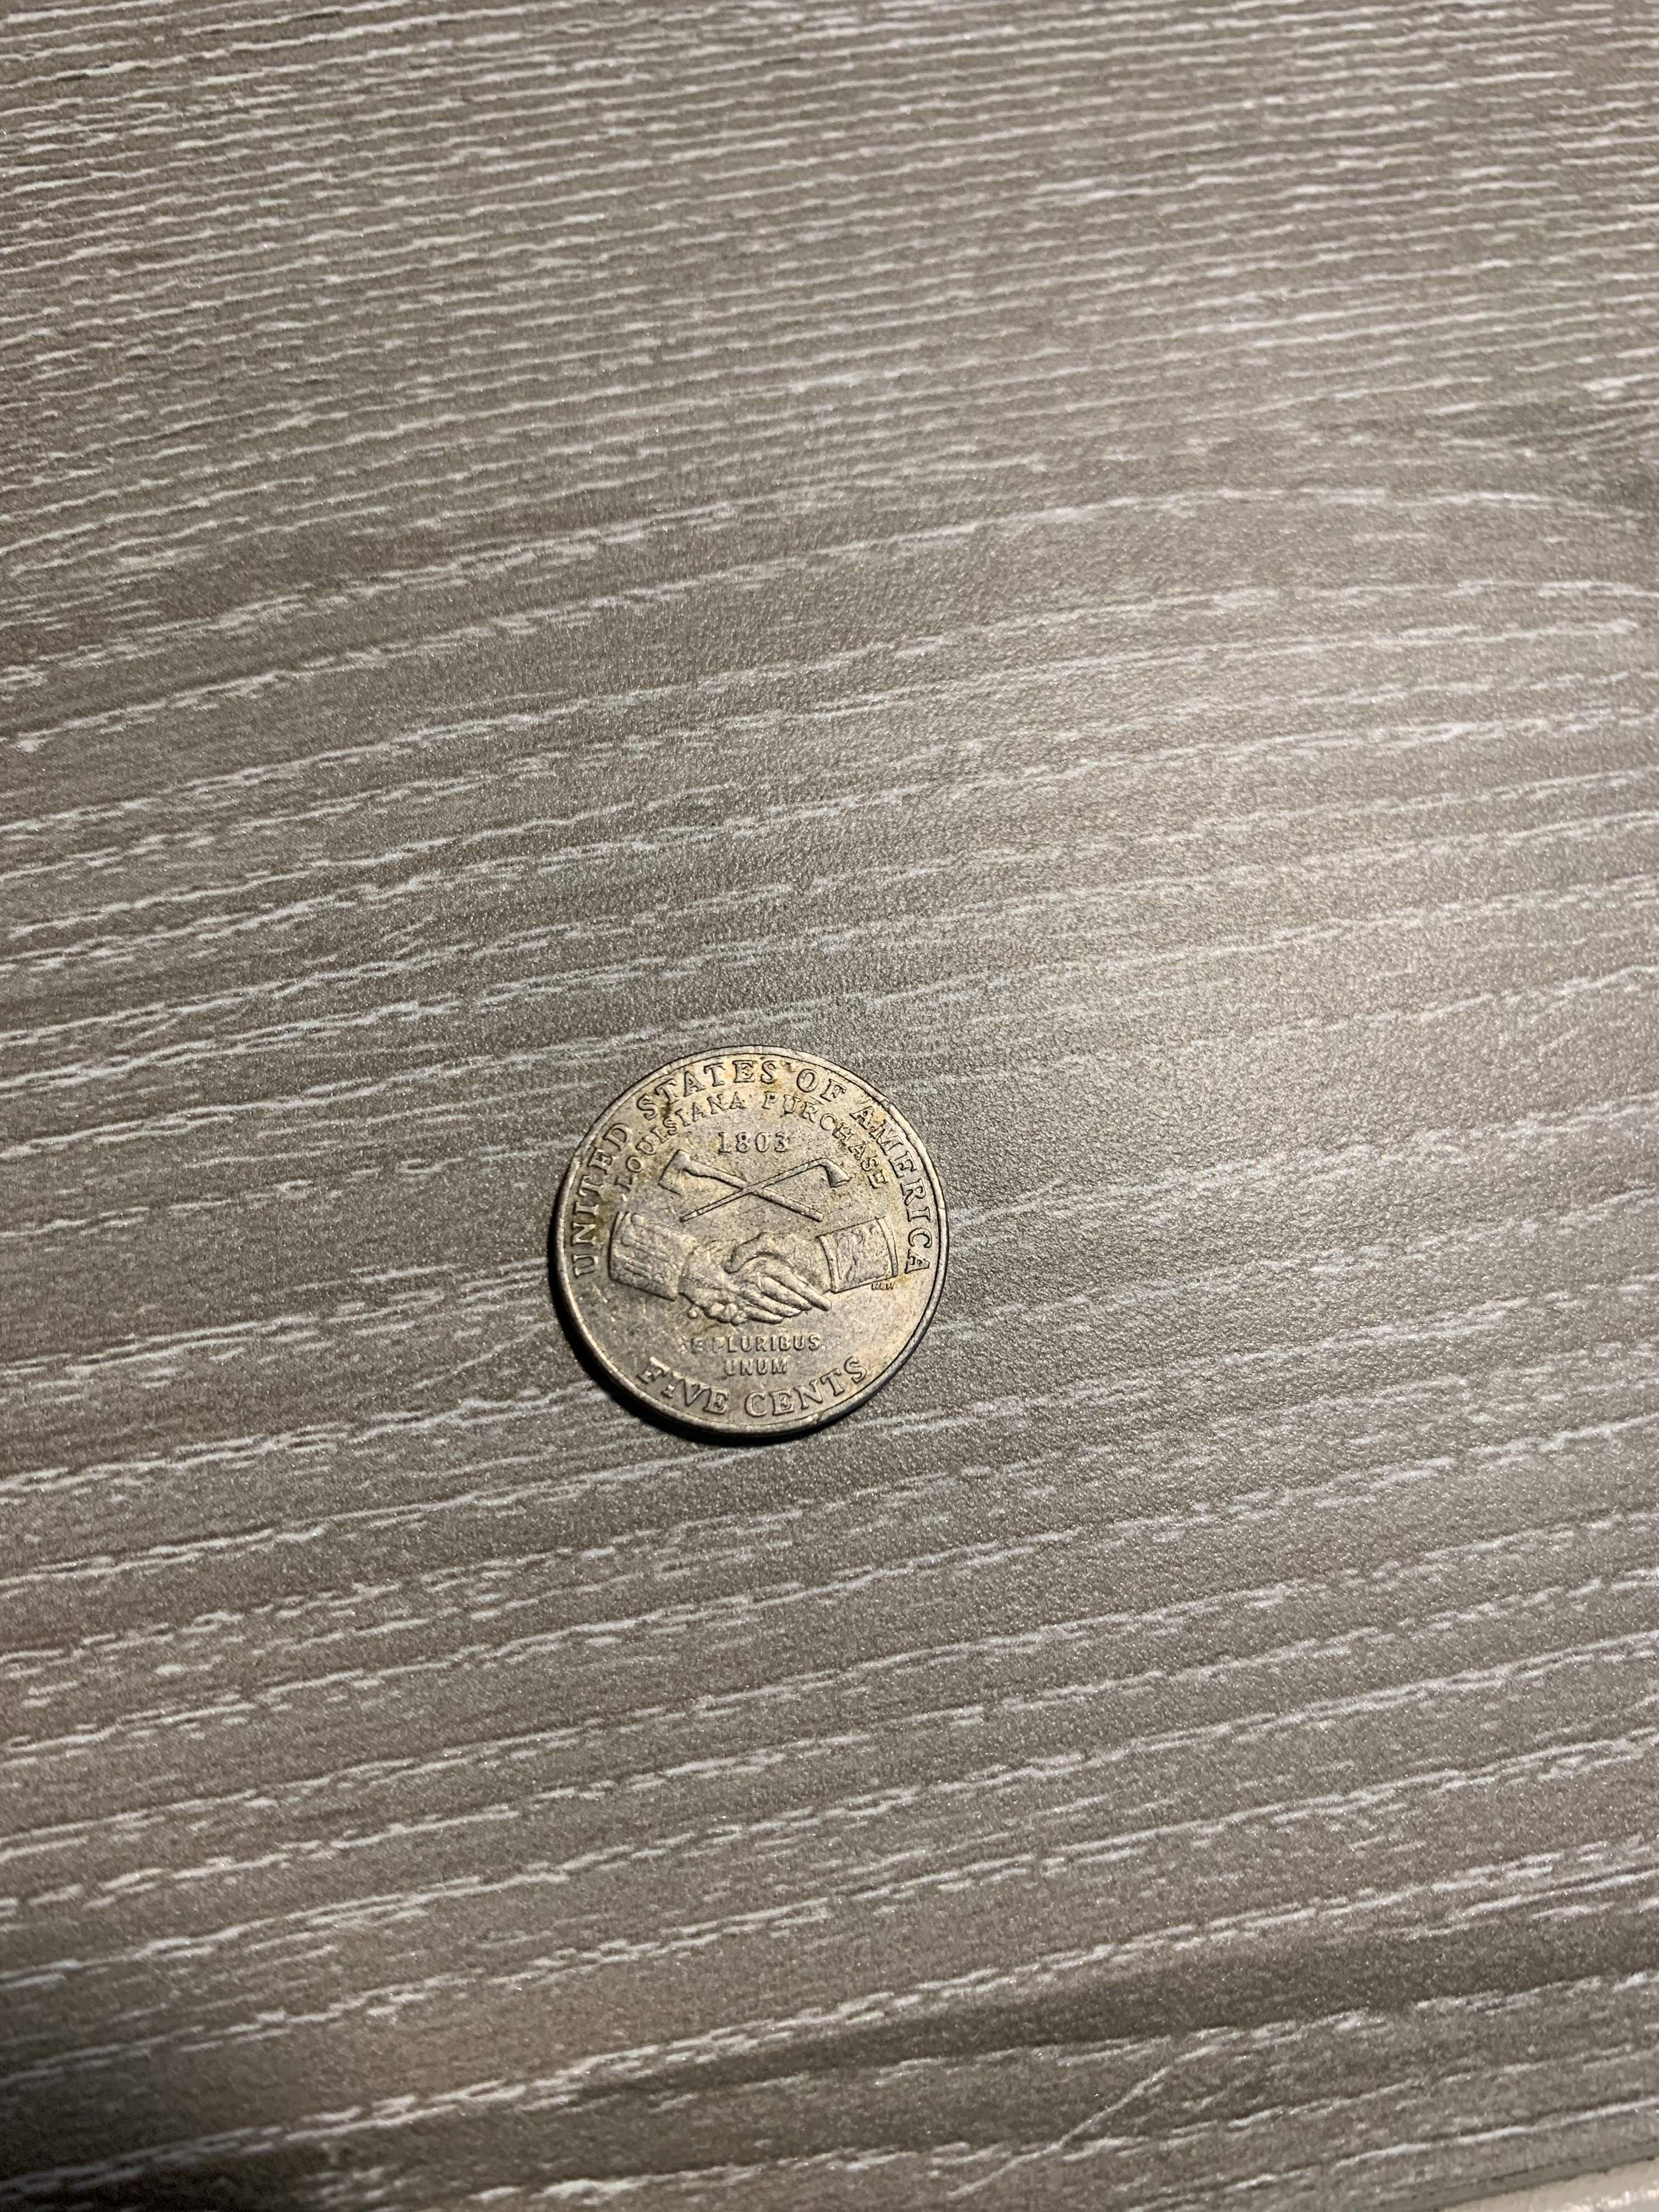Nickel: (528, 1035, 972, 1460)
